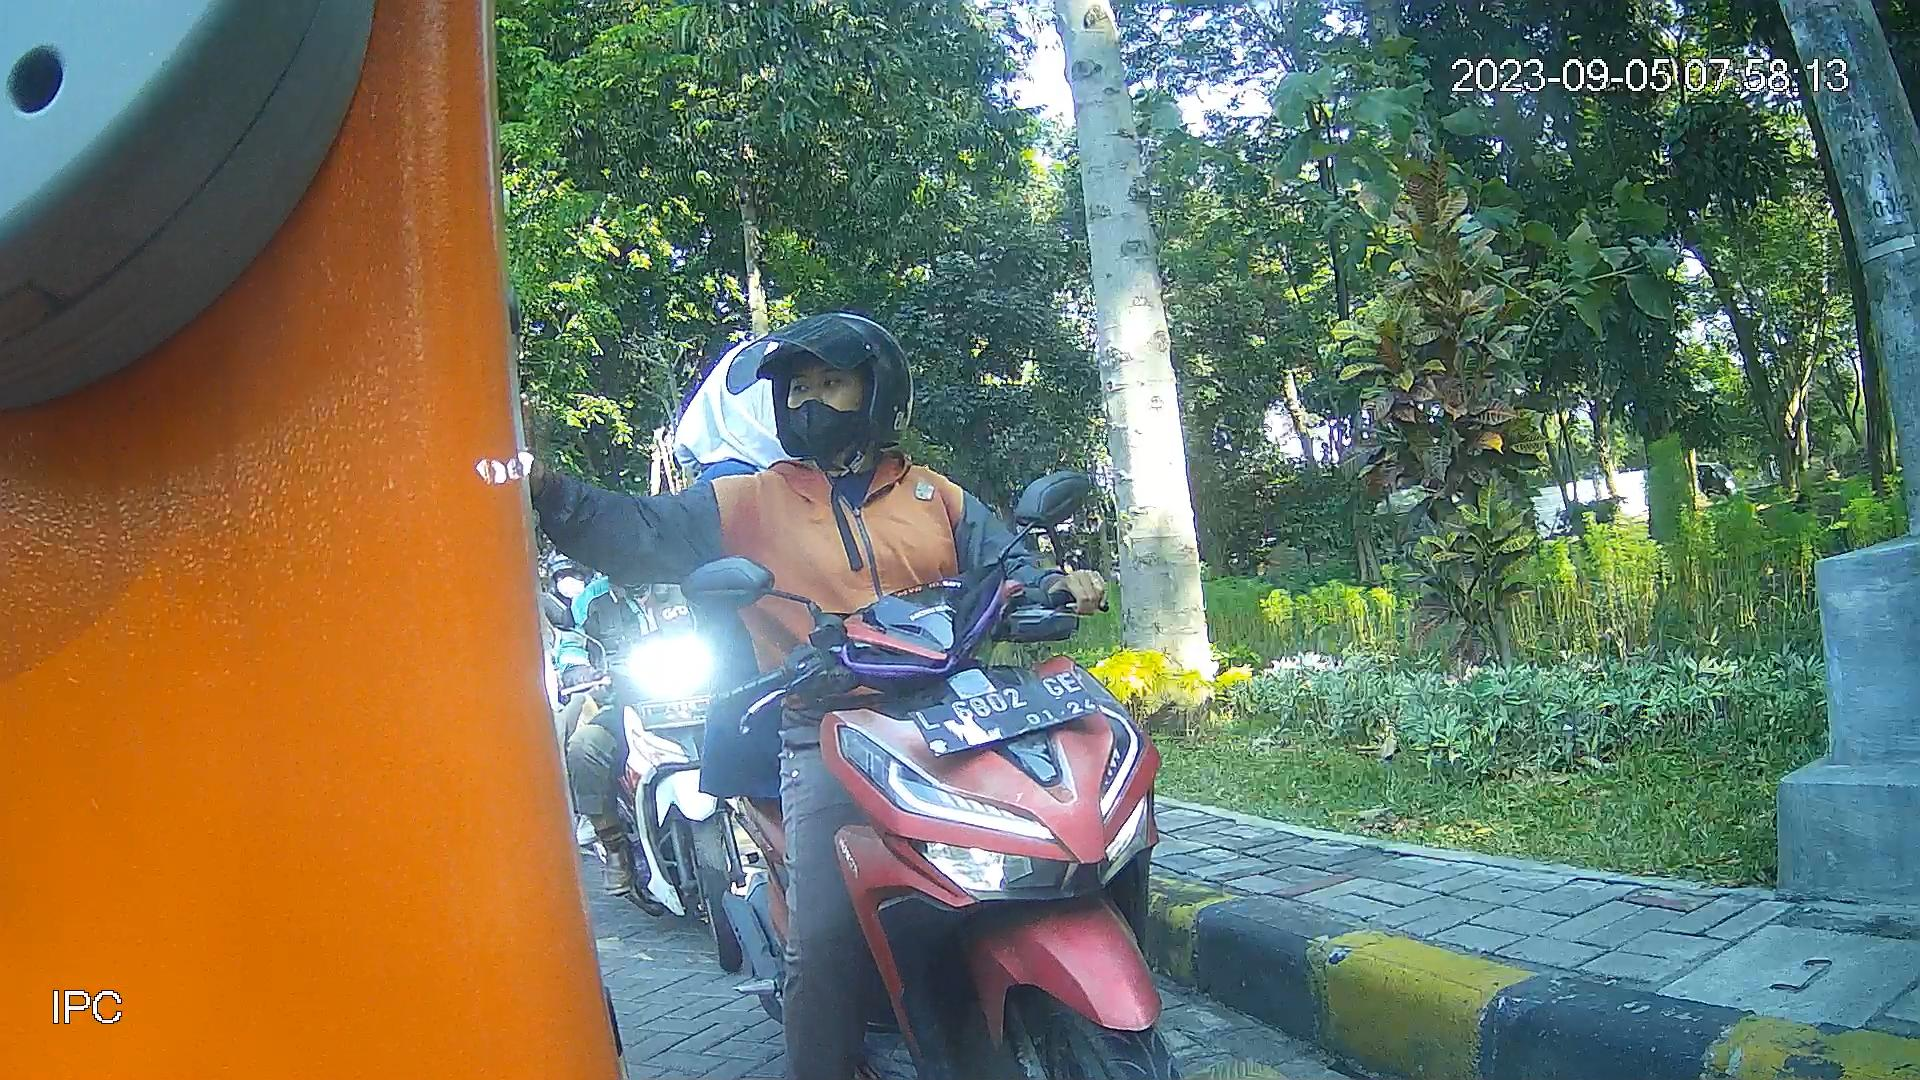plat: (905, 669, 1108, 760)
